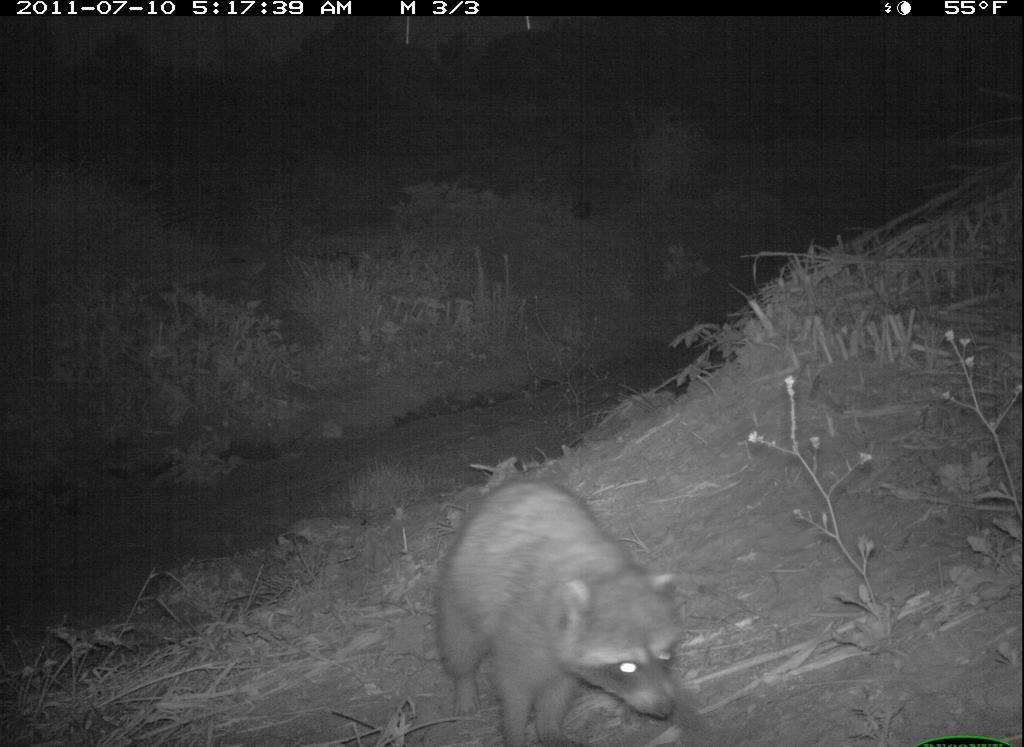raccoon: (433, 464, 690, 744)
